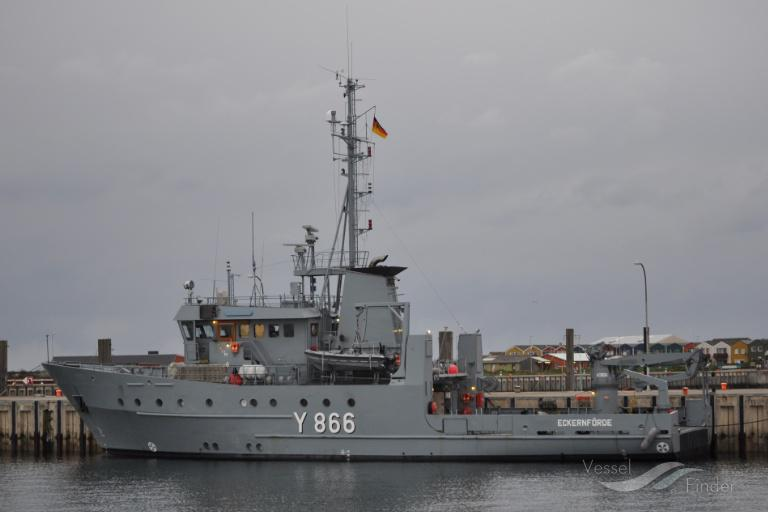OCR: (292, 409, 360, 442)
